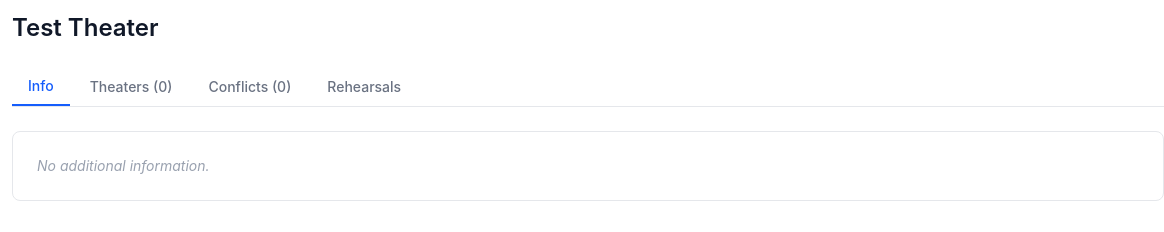
Test: SpaceDetail — Rehearsals tab content › shows the rehearsal table when there are upcoming rehearsals
Click the button "Rehearsals": (364, 87) [311,68,417,106]
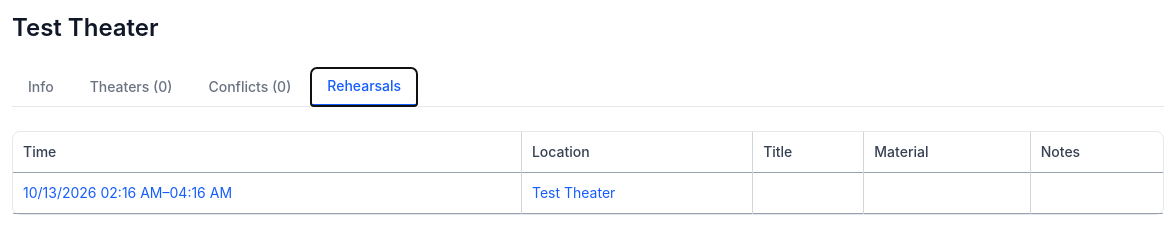
Now the table is shown, box [13,132,1163,214]
